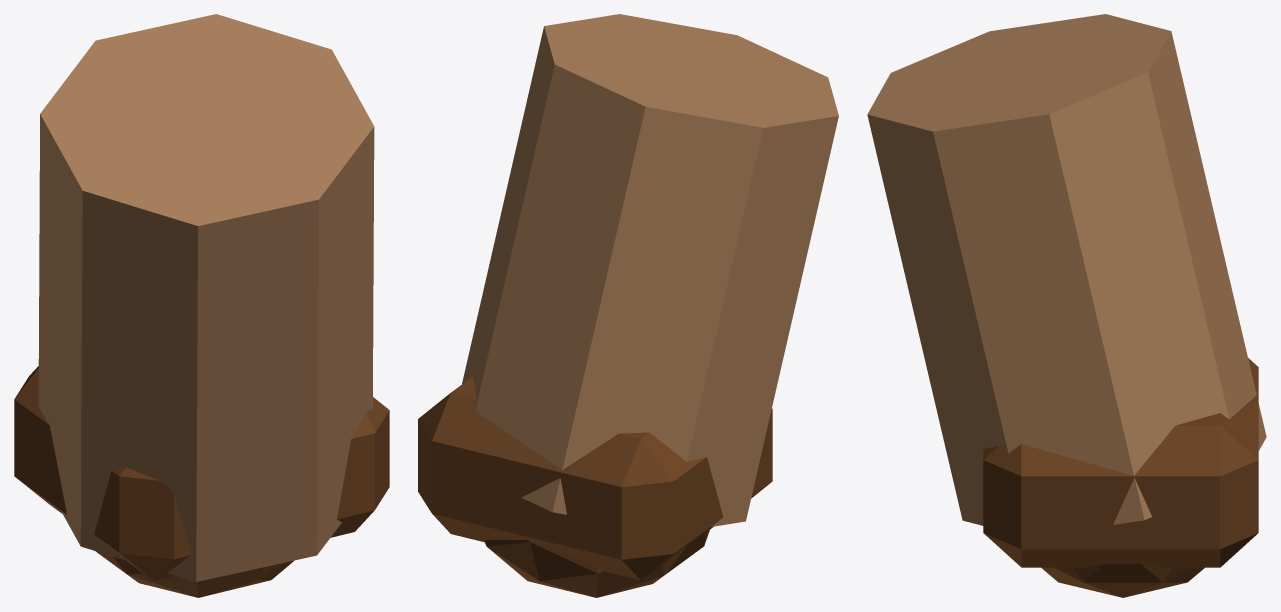
Rendered from ForearmRight.glb.
3 renders of one model, left to right at view 1: azimuth 30°, elevation 25°; view 2: azimuth 150°, elevation 25°; view 3: azimuth 270°, elevation 25°, orthographic. The views are drawn at different scales.
Parts seen in each view (by area): view 1: Sculpture; view 2: Sculpture; view 3: Sculpture.
Part boxes in pixels (box(x1,y1,x2,y2)): Sculpture: box(14, 14, 389, 597); Sculpture: box(418, 14, 838, 597); Sculpture: box(867, 14, 1266, 597).
Size of the model in its own units: 0.1703 by 0.2726 by 0.1886.
